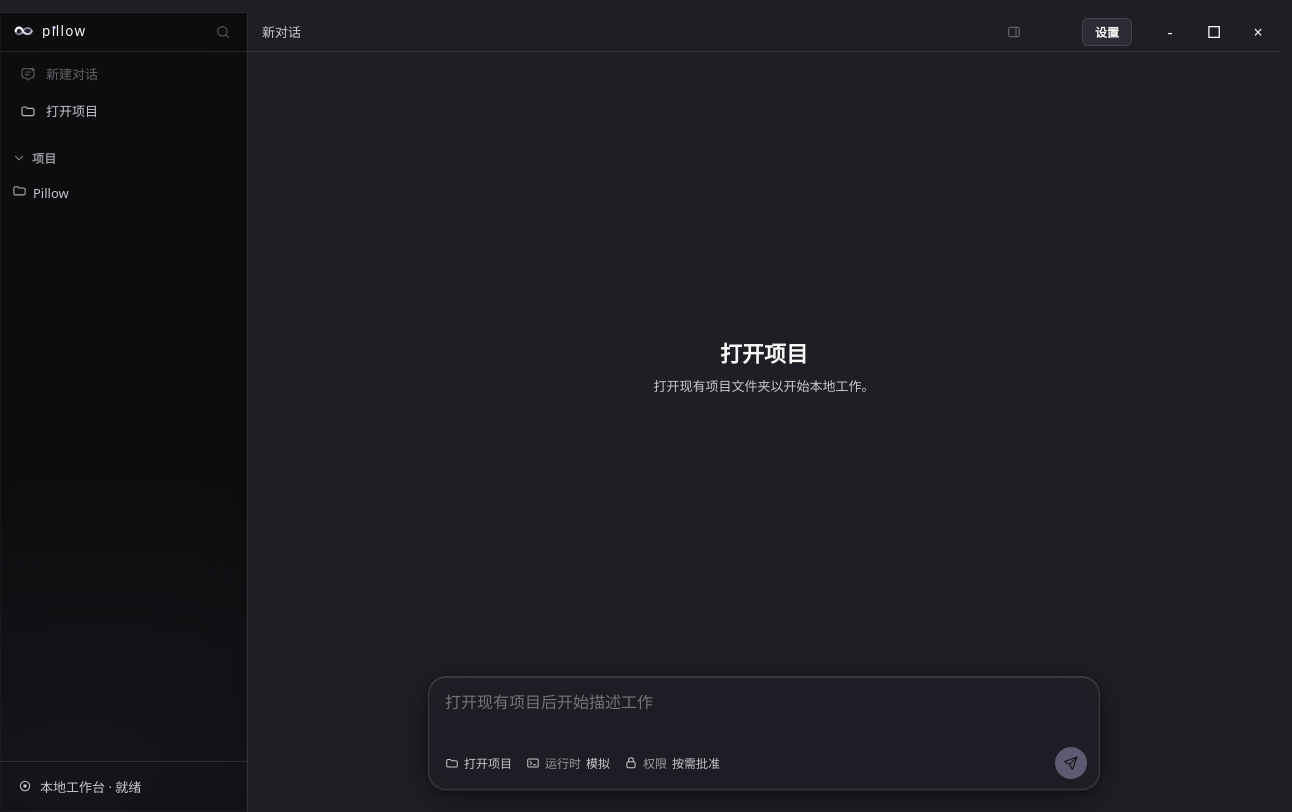
Test: App runtime-unavailable send guidance › external-only slots classify as no chat-capable slots
Expected: the navigation bar with test id "app-sidebar" is shown, [0,12,248,811]
Click the button "Pillow" at (124, 192), box [4,176,243,209]
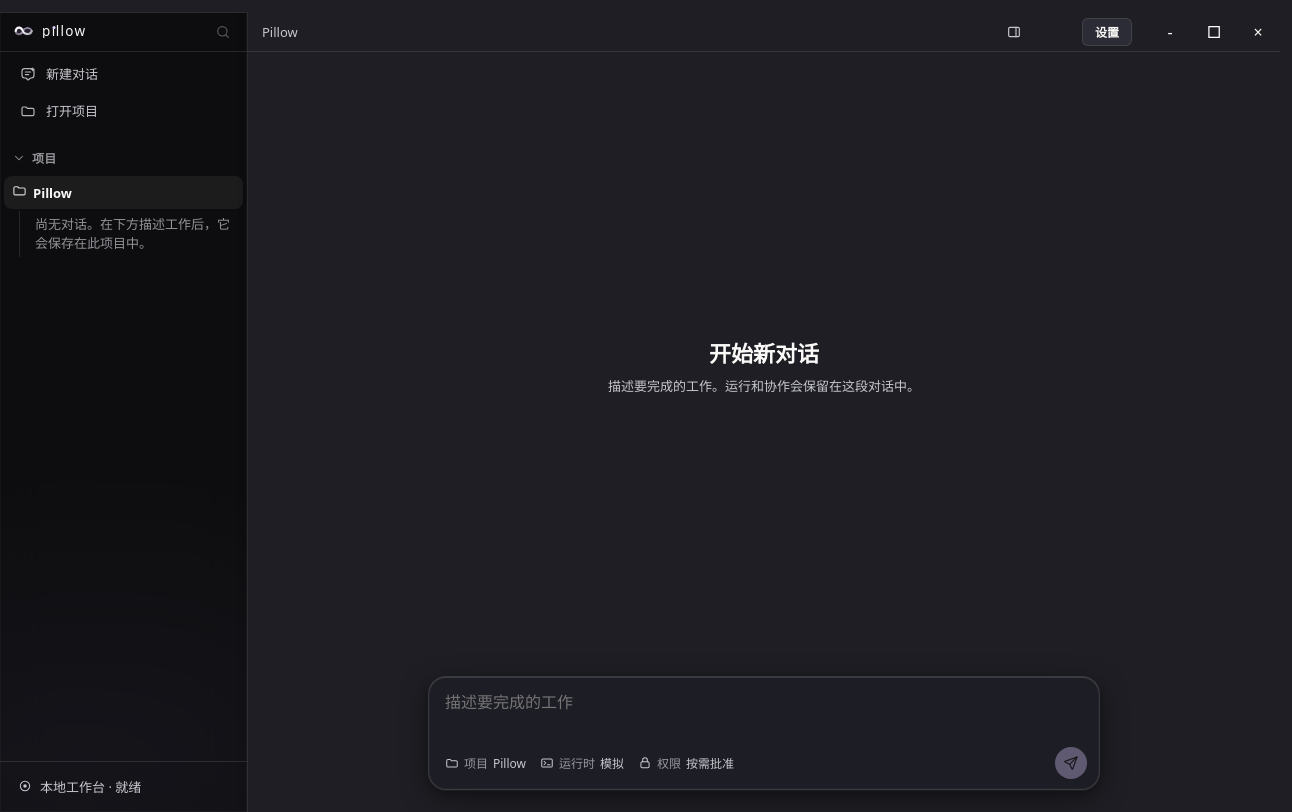
Click the button "新建对话" at (124, 74), box [10,56,237,91]
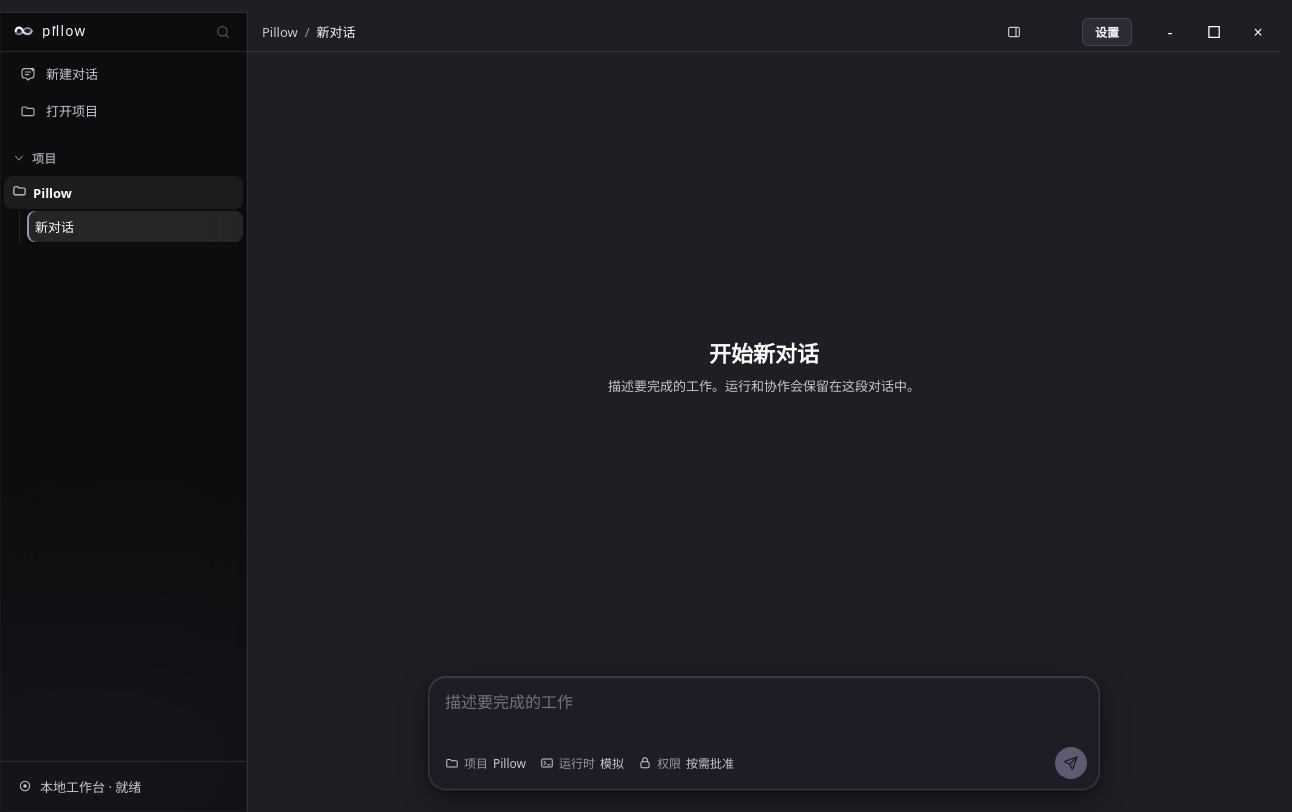
Type "hello" into the text box named "工作请求" at (764, 713), box [441,687,1087,739]
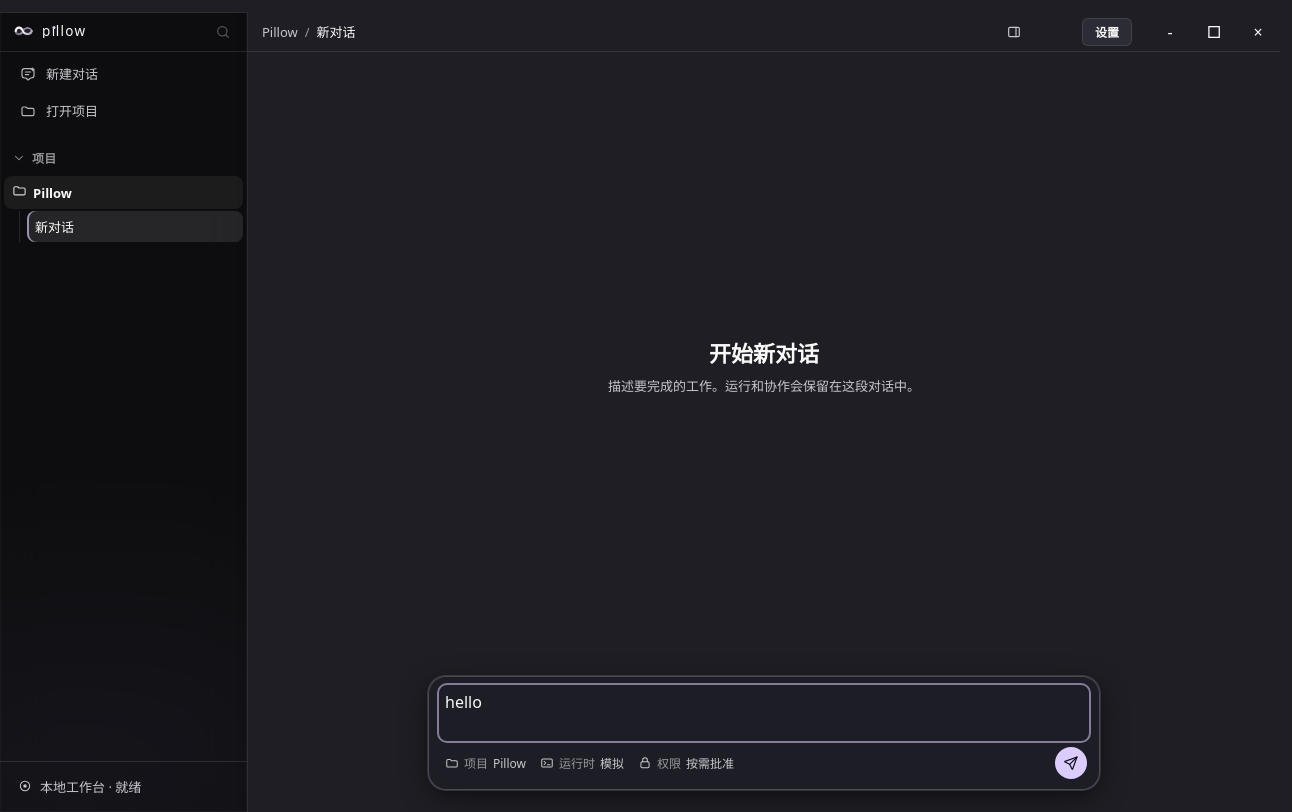
Click the button with test id "composer-send" at (1071, 763), box [1055,747,1087,779]
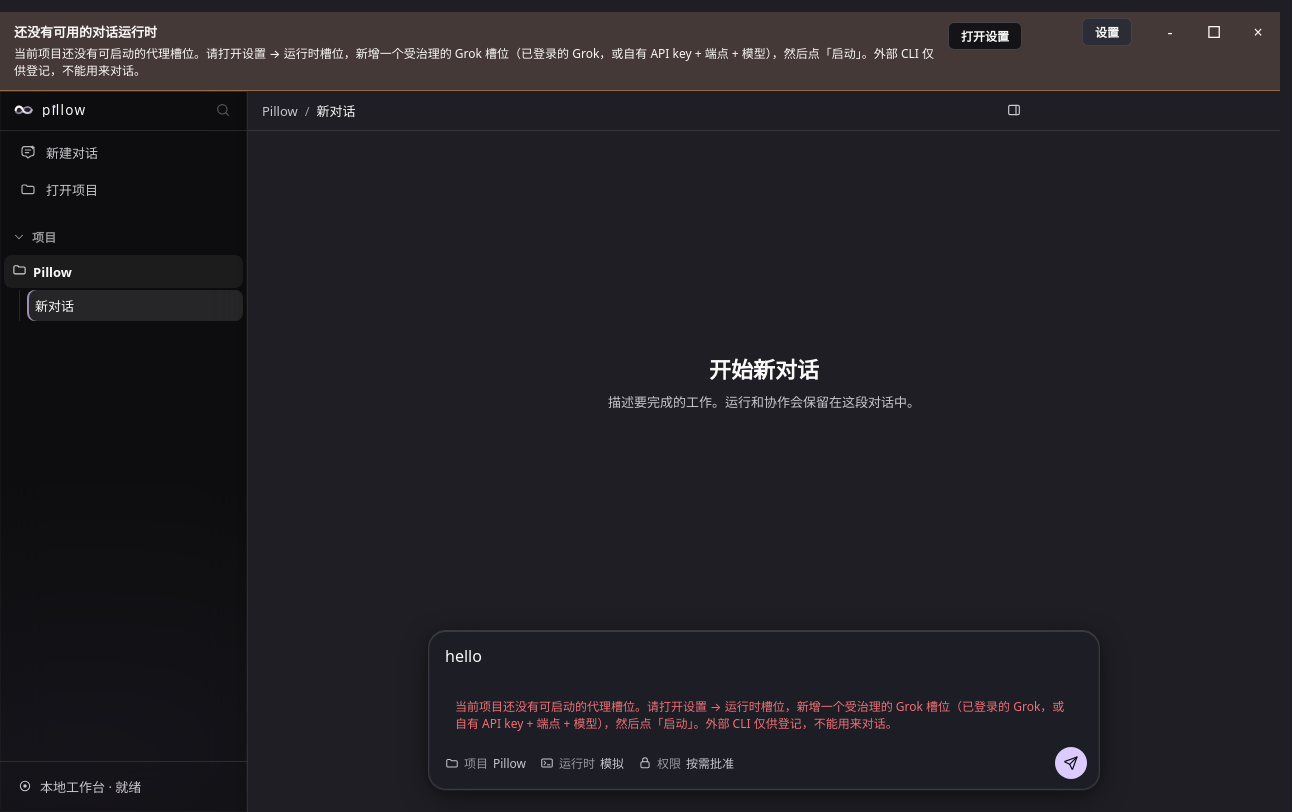
Result: the text with test id "runtime-slot-guidance-body" shows "当前项目还没有可启动的代理槽位。请打开设置 → 运行时槽位，新增一个受治理的 Grok 槽位（已登录的 Grok，或自有 API key + 端点 + 模型），然后点「启动」。外部 CLI 仅供登记，不能用来对话。" at [14,45,934,79]
